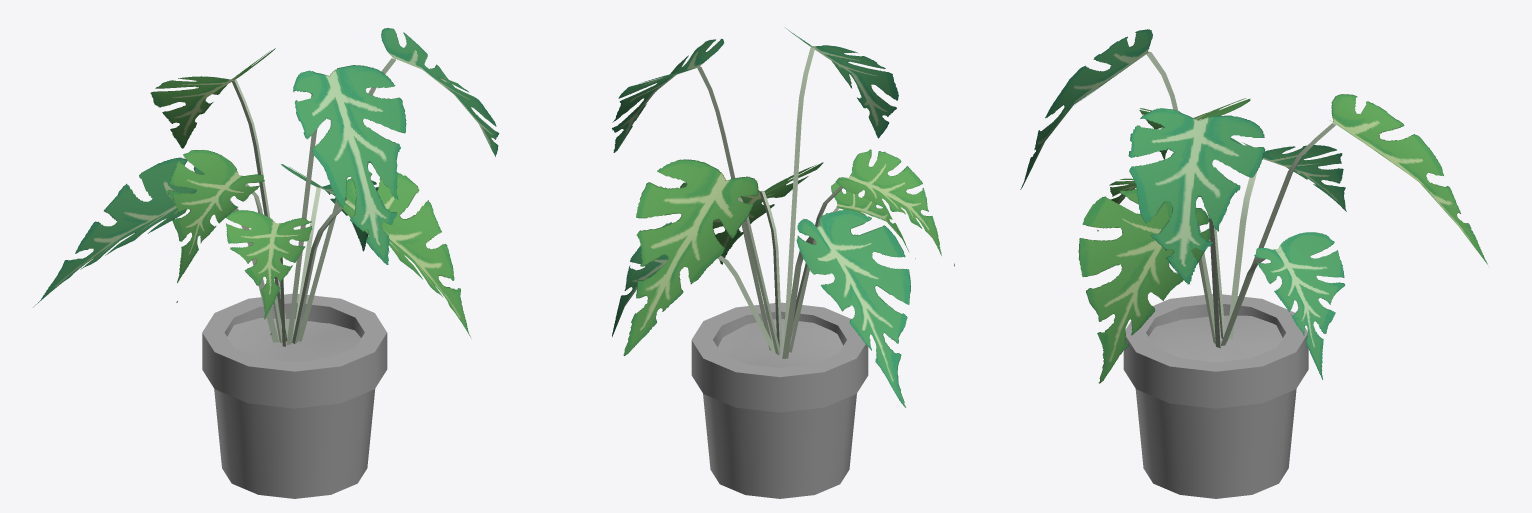
File: SM_Plant_3.fbx
3 renders of one model, left to right at view 1: azimuth 30°, elevation 25°; view 2: azimuth 150°, elevation 25°; view 3: azimuth 270°, elevation 25°, orthographic. The views are drawn at different scales.
Parts seen in each view (by area): view 1: Pot, pPlane4, pasted__pPlane7, pasted__pPlane4, pasted__pasted__pPlane11, pasted__pasted__pPlane7, pasted__pPlane9, Ground, pasted__pasted__pasted__pPlane4, pasted__pPlane8, pasted__pasted__pPlane13, pasted__pasted__pPlane12 (+9 smaller); view 2: Pot, pasted__pasted__pasted__pPlane4, pasted__pPlane4, Ground, pasted__pPlane7, pasted__pasted__pasted__pasted__pPlane4, pasted__pasted__pPlane13, pPlane4, pasted__pPlane8, pasted__pasted__pCylinder2, pasted__pasted__pPlane11, pasted__pasted__pPlane12 (+10 smaller); view 3: Pot, pasted__pPlane8, pasted__pasted__pPlane11, pasted__pasted__pPlane4, pasted__pasted__pasted__pPlane4, pasted__pasted__pPlane8, Ground, pPlane4, pasted__pasted__pasted__pPlane11, pasted__pPlane4, pasted__pasted__pasted__pPlane12, pasted__pasted__pasted__pasted__pPlane4 (+5 smaller).
Part boxes in pixels (box(x1,y1,x2,y2)): Pot: box(202, 293, 387, 498); pPlane4: box(293, 65, 406, 264); pasted__pPlane7: box(167, 150, 264, 302); pasted__pPlane4: box(36, 157, 204, 304); pasted__pasted__pPlane11: box(336, 171, 470, 336); pasted__pasted__pPlane7: box(226, 210, 312, 334); pasted__pPlane9: box(293, 65, 405, 263); Ground: box(227, 318, 360, 362); pasted__pasted__pasted__pPlane4: box(150, 48, 275, 148); pasted__pPlane8: box(381, 28, 499, 156); pasted__pasted__pPlane13: box(35, 158, 203, 305); pasted__pasted__pPlane12: box(168, 150, 263, 279); Pot: box(691, 302, 868, 498); pasted__pasted__pasted__pPlane4: box(623, 159, 758, 355); pasted__pPlane4: box(796, 209, 910, 407); Ground: box(718, 319, 843, 367); pasted__pPlane7: box(837, 149, 954, 265); pasted__pasted__pasted__pasted__pPlane4: box(624, 160, 757, 354); pasted__pasted__pPlane13: box(797, 209, 910, 402); pPlane4: box(786, 28, 898, 138); pasted__pPlane8: box(612, 38, 723, 152); pasted__pasted__pCylinder2: box(783, 47, 814, 351); pasted__pasted__pPlane11: box(680, 162, 823, 264); pasted__pasted__pPlane12: box(837, 150, 954, 266); Pot: box(1123, 294, 1308, 498); pasted__pPlane8: box(1128, 108, 1265, 284); pasted__pasted__pPlane11: box(1078, 188, 1210, 383); pasted__pasted__pPlane4: box(1254, 232, 1344, 379); pasted__pasted__pasted__pPlane4: box(1330, 94, 1487, 264); pasted__pasted__pPlane8: box(1129, 109, 1263, 284); Ground: box(1149, 315, 1282, 362); pPlane4: box(1020, 29, 1152, 189); pasted__pasted__pasted__pPlane11: box(1079, 189, 1210, 377); pasted__pPlane4: box(1230, 138, 1346, 211); pasted__pasted__pasted__pPlane12: box(1255, 232, 1343, 374); pasted__pasted__pasted__pasted__pPlane4: box(1332, 94, 1485, 261).
Size of the model in its own units: 9.23 by 8.75 by 9.48.
